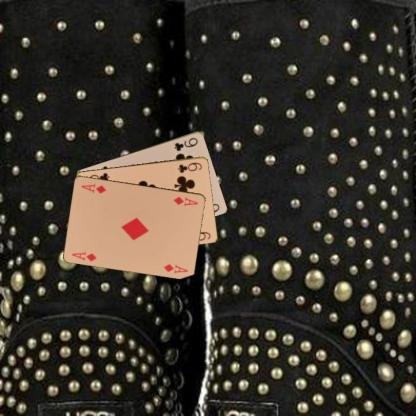6c: (175, 159, 203, 174)
9c: (172, 135, 199, 152)
Ad: (171, 194, 199, 208), (69, 249, 98, 262)
